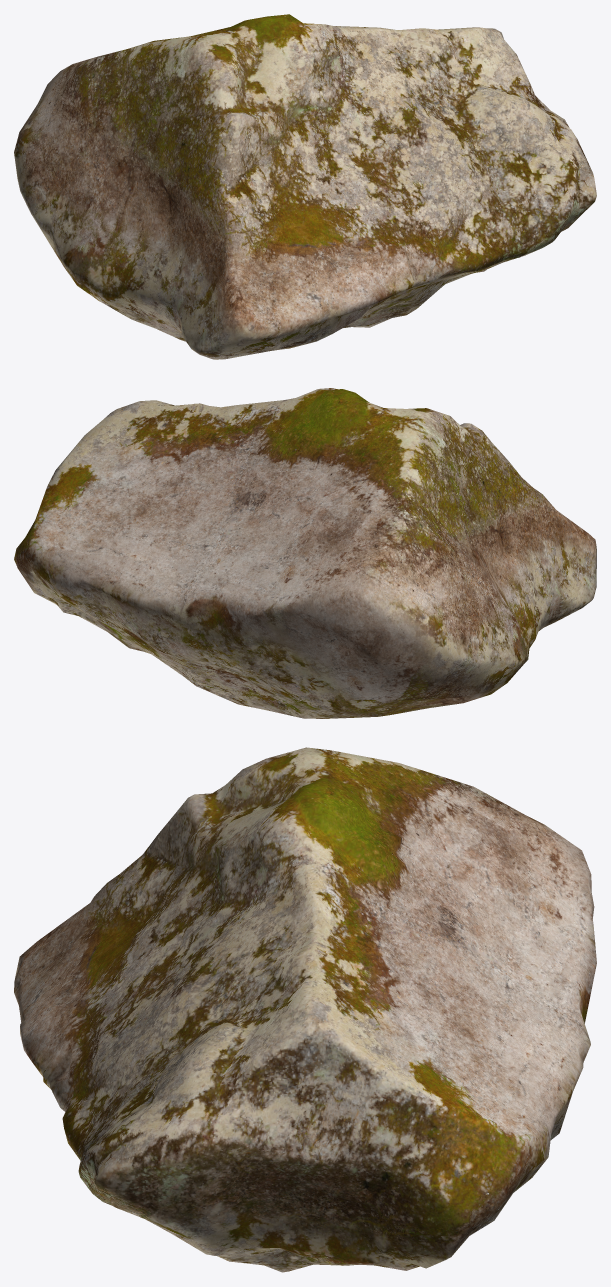
File: rock.glb
The picture shows the model from 3 angles, top to bottom: view 1: azimuth 30°, elevation 25°; view 2: azimuth 150°, elevation 25°; view 3: azimuth 270°, elevation 25°; orthographic projection. The views are drawn at different scales.
Visible parts, largest first — view 1: pkeeM_LOD0_TIER2_000; view 2: pkeeM_LOD0_TIER2_000; view 3: pkeeM_LOD0_TIER2_000.
Boxes of the visible parts, <box> form: pkeeM_LOD0_TIER2_000: <box>14,14,596,359</box>; pkeeM_LOD0_TIER2_000: <box>14,388,596,718</box>; pkeeM_LOD0_TIER2_000: <box>14,747,596,1272</box>.
Bounding box in the file's own units: 1.45 × 0.9462 × 1.19.
1 material, 1 textured.
